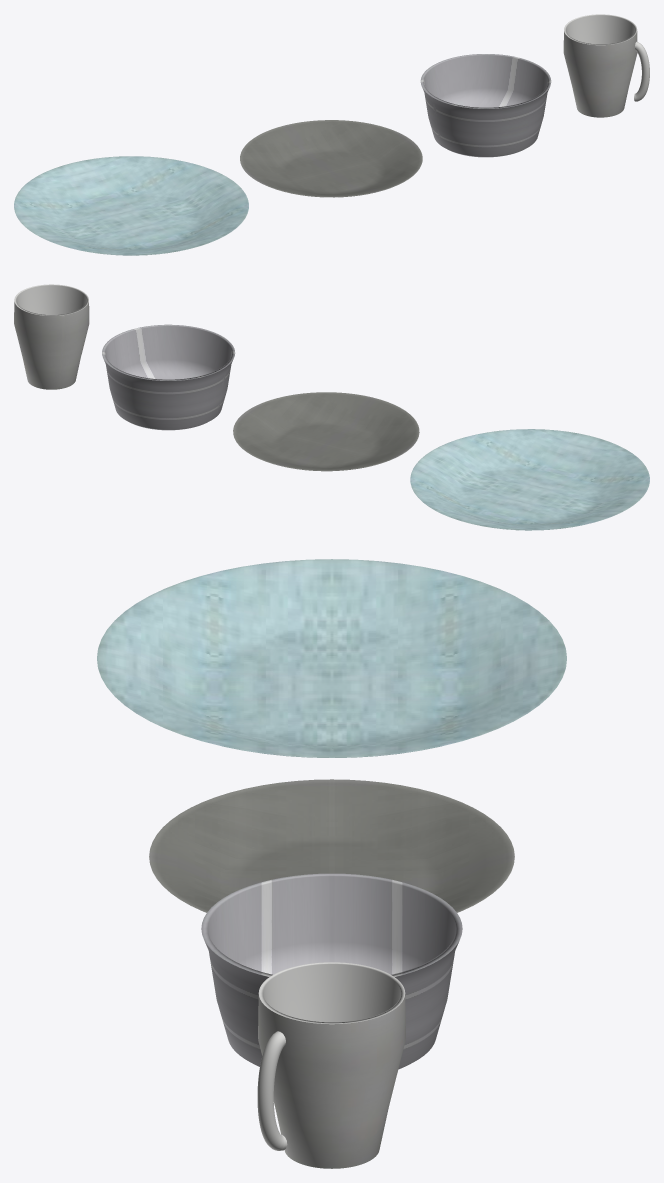
The picture shows the model from 3 angles, top to bottom: view 1: azimuth 30°, elevation 25°; view 2: azimuth 150°, elevation 25°; view 3: azimuth 270°, elevation 25°; orthographic projection. The views are drawn at different scales.
Bounding box in the file's own units: 0.7997 × 0.1 × 0.27.
9 materials, 7 textured.
